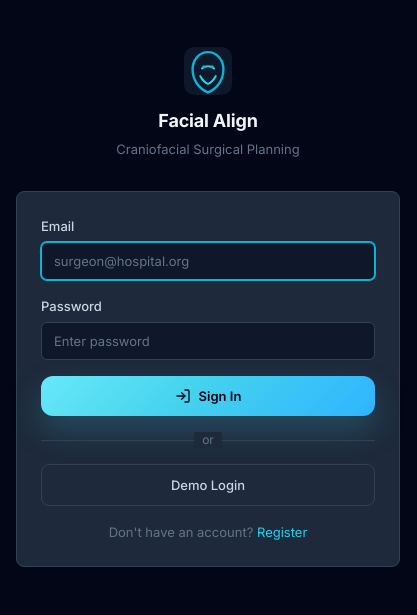
Test case: LoginPage › shows the API error when login fails
Type "surgeon@example.com" into the field with test id "login-email".
click(208, 261); type("surgeon@example.com")  # box 41,242 -> 375,280
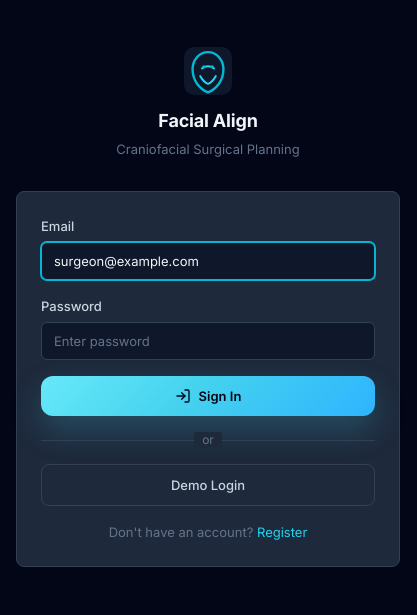
Type "wrong-password" into the password field with test id "login-password".
click(208, 341); type("wrong-password")  # box 41,322 -> 375,360
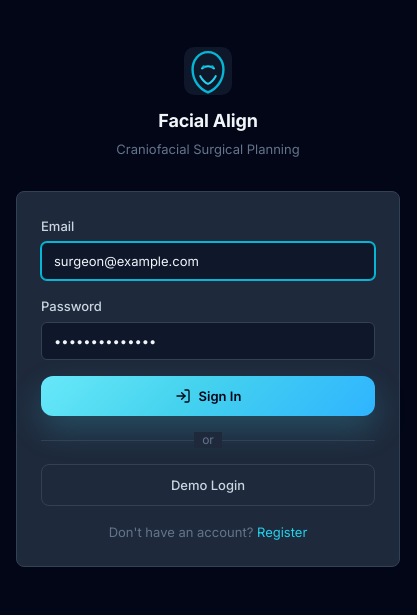
Click the button with test id "login-submit".
click(208, 396)  # box 41,376 -> 375,416
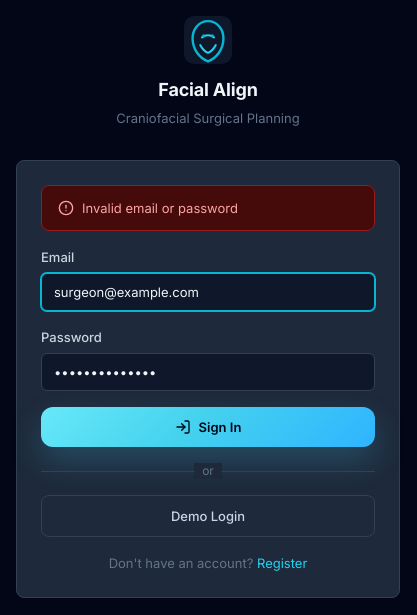
Expected: the element with test id "login-error" reads "Invalid email or password", 82,200 -> 238,216
